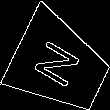N_SE: (31, 36, 89, 95)
